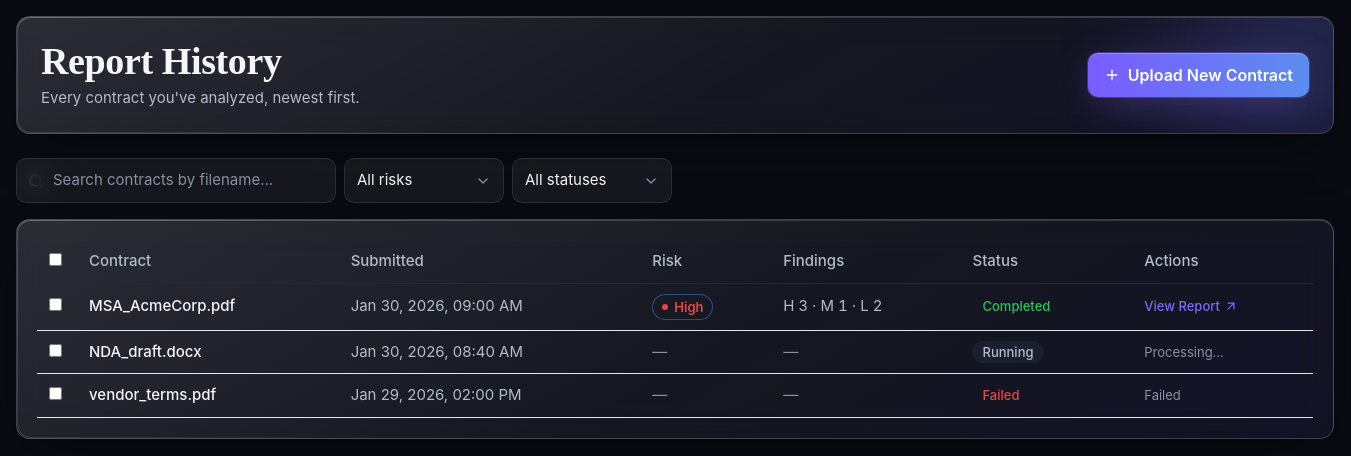
ReportHistoryView (spec 021) › parity: risk filter narrows rows client-side
Check: the link "MSA_AcmeCorp.pdf" is shown, box [89, 296, 235, 315]
# Custom glass Dropdown: open the trigger, then pick the option.
Click the button with aria-label "filter by risk": (424, 181) [344, 158, 504, 203]
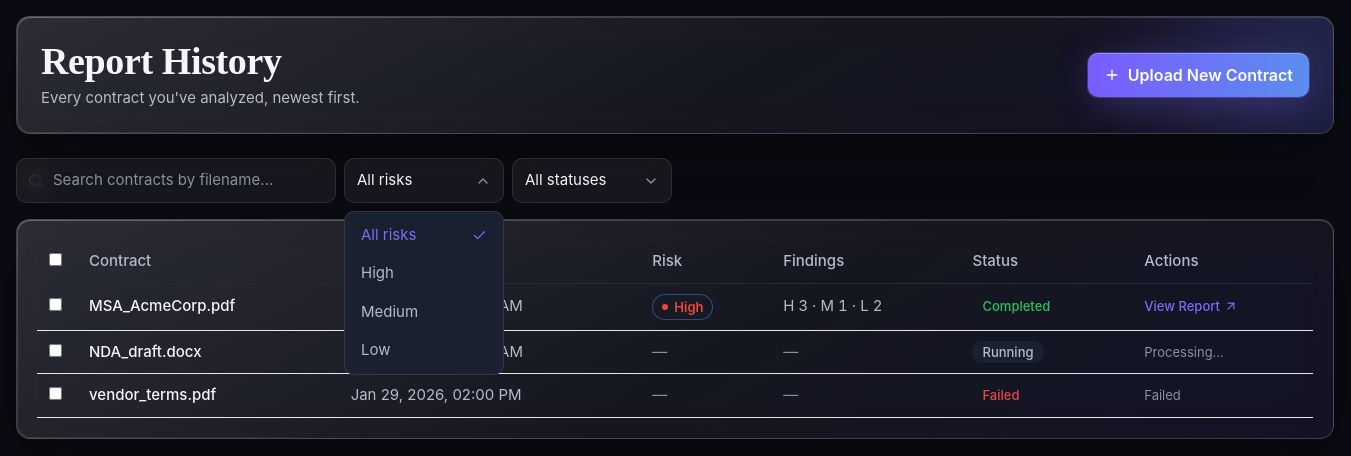
Click the option "High": (424, 274) [349, 254, 499, 293]
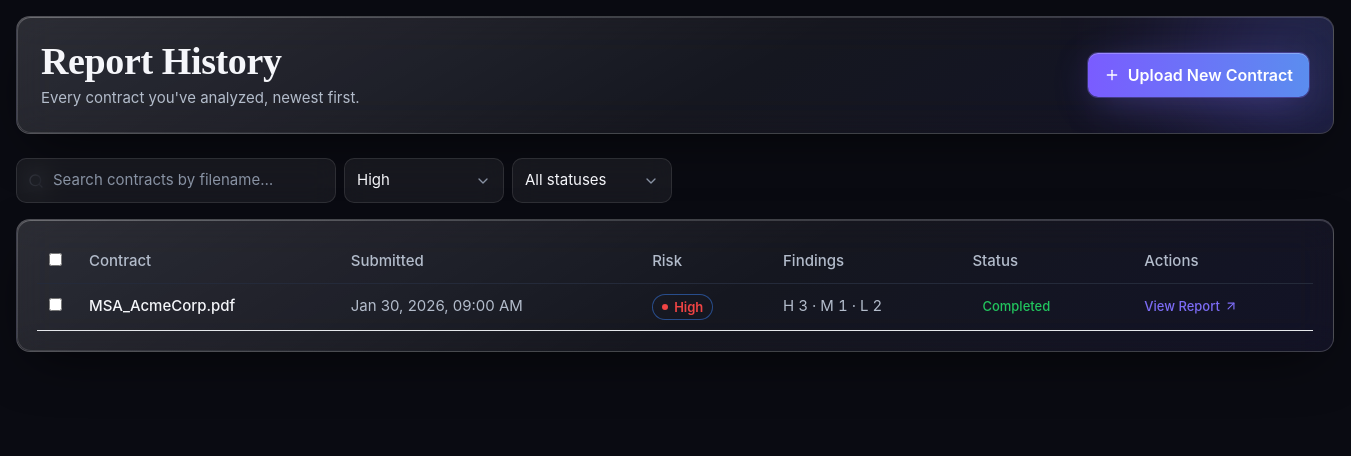
Check: the link "MSA_AcmeCorp.pdf" is shown, box [89, 296, 235, 315]
Check: the text "NDA_draft.docx" is gone
Check: the text "vendor_terms.pdf" is gone
